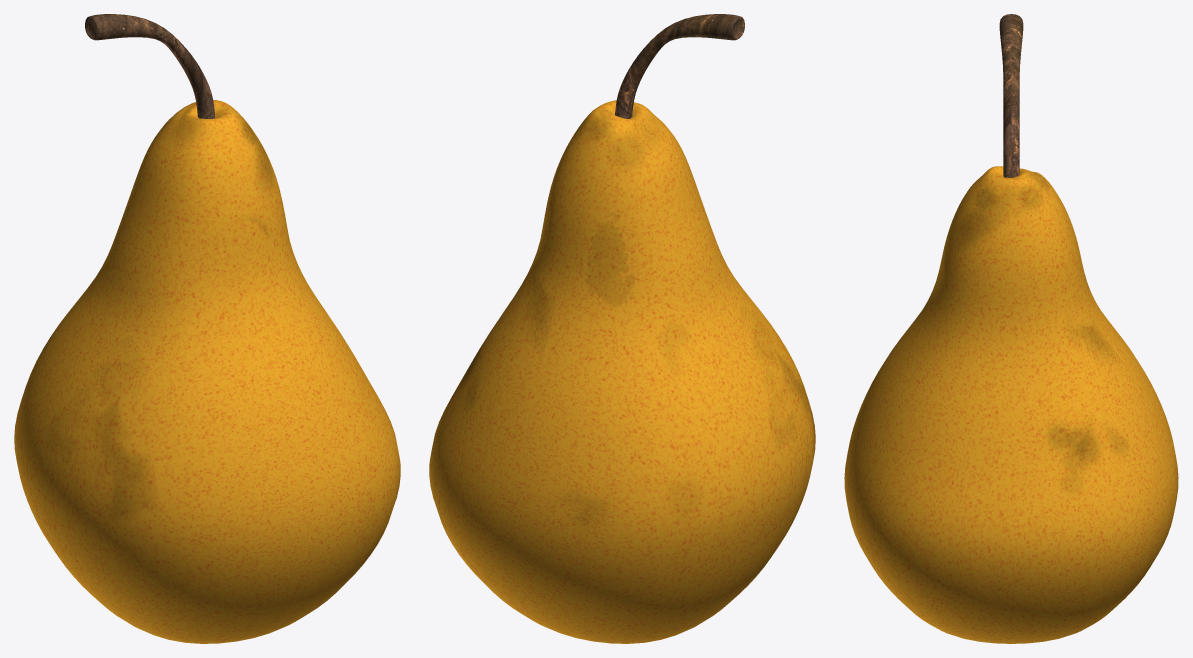
The model's file is pear.glb.
3 views of the same model, side by side, from view 1: azimuth 30°, elevation 25°; view 2: azimuth 150°, elevation 25°; view 3: azimuth 270°, elevation 25° (orthographic). The views are drawn at different scales.
Parts seen in each view (by area): view 1: pear; view 2: pear; view 3: pear.
Part boxes in pixels (x1,y1,x2,y2): pear: [14, 14, 400, 643]; pear: [429, 14, 815, 643]; pear: [844, 14, 1178, 643].
Bounding box in the file's own units: 0.8907 × 1.62 × 0.8856.
Materials: 1 (1 with a texture image).
